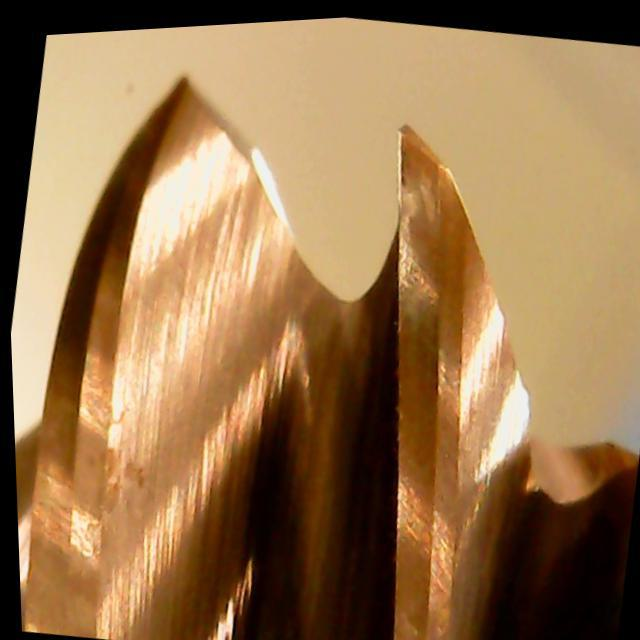Tool-wear-class-0: (336, 104, 502, 455)
